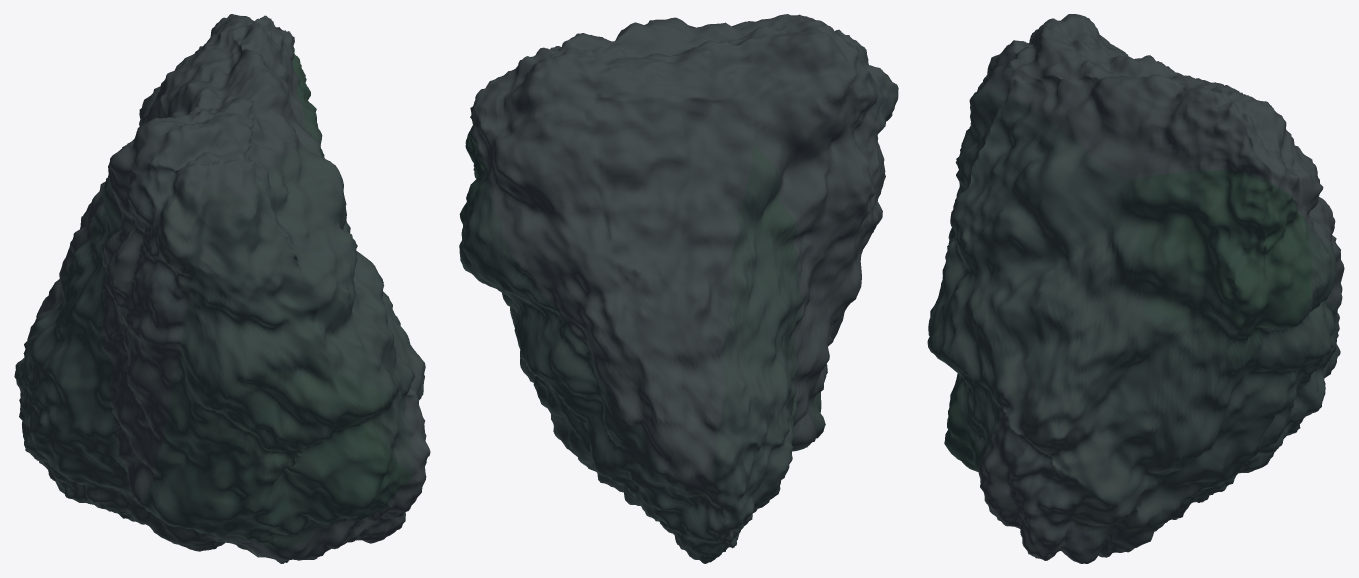
File: cobaltlast.gltf
3 views of the same model, side by side, from view 1: azimuth 30°, elevation 25°; view 2: azimuth 150°, elevation 25°; view 3: azimuth 270°, elevation 25° (orthographic). The views are drawn at different scales.
Visible parts, largest first — view 1: rock.004; view 2: rock.004; view 3: rock.004.
Boxes of the visible parts, <box> form: rock.004: <box>14,14,430,563</box>; rock.004: <box>459,14,898,563</box>; rock.004: <box>927,14,1344,563</box>.
Size of the model in its own units: 0.6336 by 0.9631 by 0.7619.
1 material, 1 textured.
